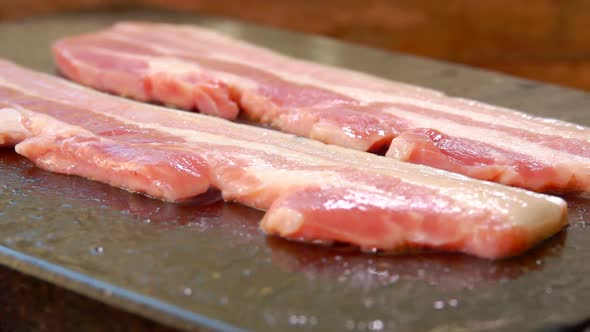bacon: (1, 21, 569, 293)
